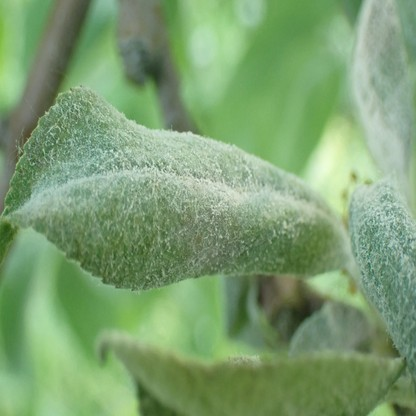powdery_mildew: (1, 86, 357, 289), (349, 181, 415, 383), (352, 1, 412, 178)
